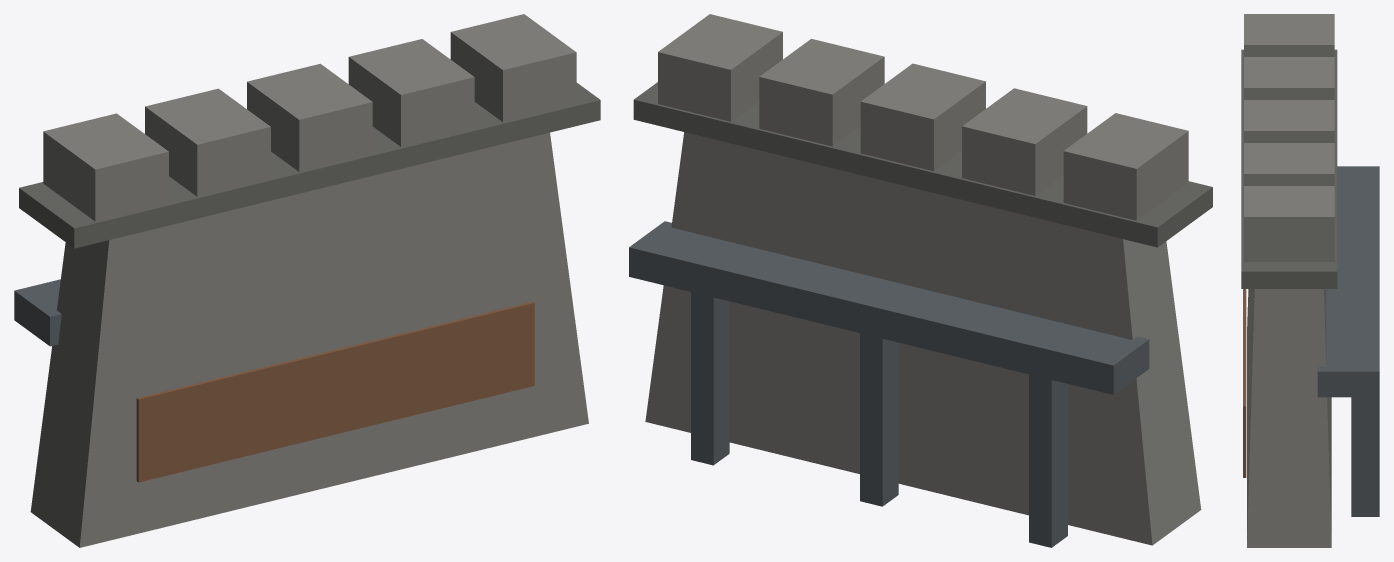
The model's file is rampart.glb.
The picture shows the model from 3 angles, left to right: view 1: azimuth 30°, elevation 25°; view 2: azimuth 150°, elevation 25°; view 3: azimuth 270°, elevation 25°; orthographic projection. The views are drawn at different scales.
Visible parts, largest first — view 1: curtain, stain, cap, merlon0, merlon4, merlon3, merlon1, merlon2, step; view 2: curtain, step, cap, merlon0, merlon1, merlon2, merlon3, merlon4, brace1, brace0, brace2; view 3: curtain, step, merlon4, cap, merlon0, merlon1, merlon2, merlon3, brace2, stain.
Part boxes in pixels (left/top/right/bottom): curtain: left=30, top=132, right=588, bottom=547; stain: left=136, top=301, right=534, bottom=482; cap: left=19, top=83, right=600, bottom=248; merlon0: left=43, top=113, right=168, bottom=221; merlon4: left=450, top=14, right=576, bottom=122; merlon3: left=348, top=39, right=474, bottom=146; merlon1: left=145, top=88, right=270, bottom=196; merlon2: left=247, top=63, right=372, bottom=171; step: left=14, top=279, right=61, bottom=346; curtain: left=645, top=132, right=1201, bottom=545; step: left=629, top=221, right=1149, bottom=394; cap: left=633, top=82, right=1212, bottom=247; merlon0: left=1063, top=113, right=1188, bottom=220; merlon1: left=962, top=88, right=1087, bottom=195; merlon2: left=860, top=63, right=985, bottom=171; merlon3: left=759, top=39, right=884, bottom=146; merlon4: left=658, top=14, right=782, bottom=121; brace1: left=860, top=324, right=898, bottom=506; brace0: left=1029, top=365, right=1067, bottom=547; brace2: left=691, top=283, right=729, bottom=465; curtain: left=1247, top=289, right=1331, bottom=547; step: left=1317, top=166, right=1379, bottom=397; merlon4: left=1244, top=186, right=1334, bottom=261; cap: left=1241, top=49, right=1337, bottom=288; merlon0: left=1244, top=14, right=1334, bottom=56; merlon1: left=1244, top=57, right=1334, bottom=99; merlon2: left=1244, top=100, right=1334, bottom=142; merlon3: left=1244, top=143, right=1334, bottom=185; brace2: left=1351, top=397, right=1379, bottom=516; stain: left=1243, top=289, right=1246, bottom=477.
Bounding box in the file's own units: 9.3 × 6.35 × 2.45.
